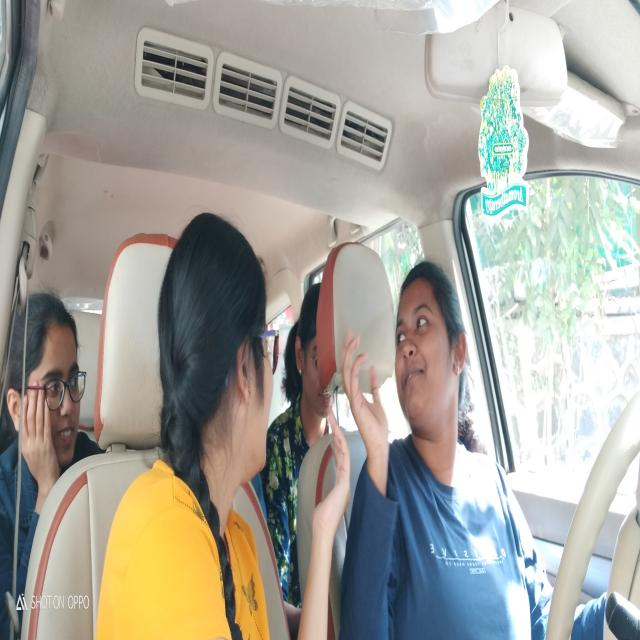LeftRight: (392, 258, 472, 436)
person: (190, 214, 274, 474), (15, 307, 88, 458), (288, 288, 327, 424)
